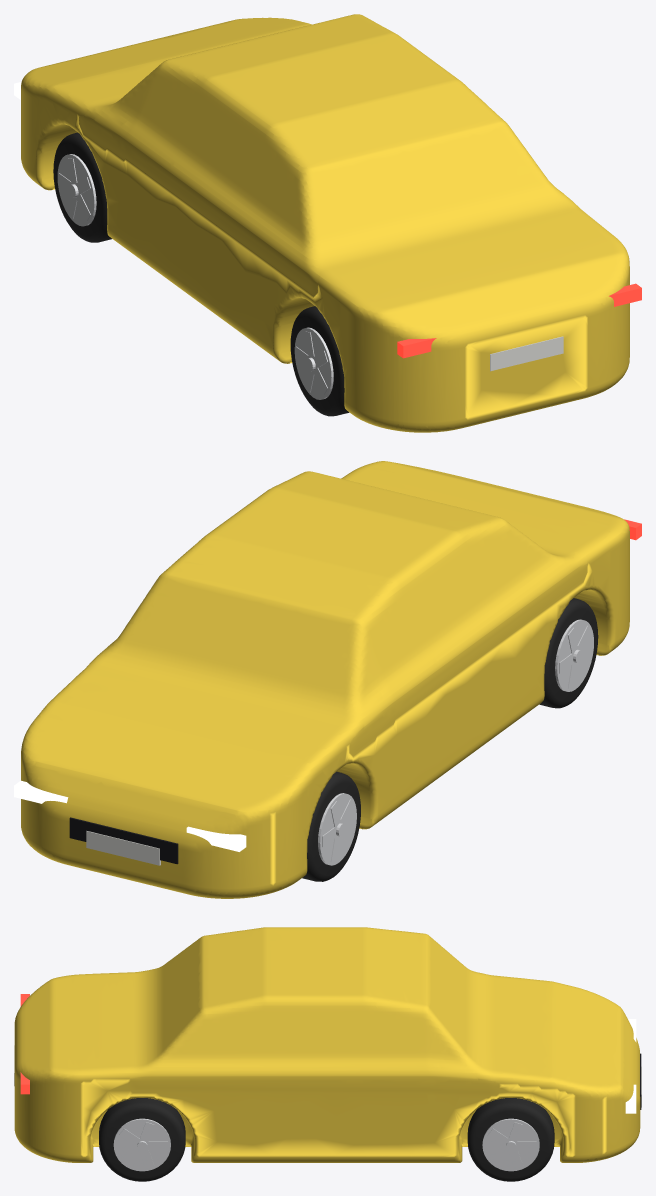
Rendered from taxi.glb.
The picture shows the model from 3 angles, top to bottom: view 1: azimuth 30°, elevation 25°; view 2: azimuth 150°, elevation 25°; view 3: azimuth 270°, elevation 25°; orthographic projection. The views are drawn at different scales.
Visible parts, largest first — view 1: Body, wheel_rl, wheel_fl, Details; view 2: Body, Details, wheel_rl, wheel_fl; view 3: Body, wheel_fr, wheel_rr, Details.
Boxes of the visible parts, x1=… form: Body: x1=21, y1=14, x2=629, y2=432; wheel_rl: x1=290, y1=306, x2=349, y2=416; wheel_fl: x1=53, y1=132, x2=111, y2=242; Details: x1=14, y1=82, x2=641, y2=371; Body: x1=21, y1=461, x2=629, y2=898; Details: x1=14, y1=519, x2=641, y2=865; wheel_rl: x1=539, y1=598, x2=598, y2=708; wheel_fl: x1=302, y1=771, x2=360, y2=881; Body: x1=14, y1=927, x2=640, y2=1162; wheel_fr: x1=467, y1=1098, x2=554, y2=1181; wheel_rr: x1=99, y1=1098, x2=185, y2=1181; Details: x1=14, y1=994, x2=641, y2=1113.
Size of the model in its own units: 1.84 by 1.45 by 4.77.
